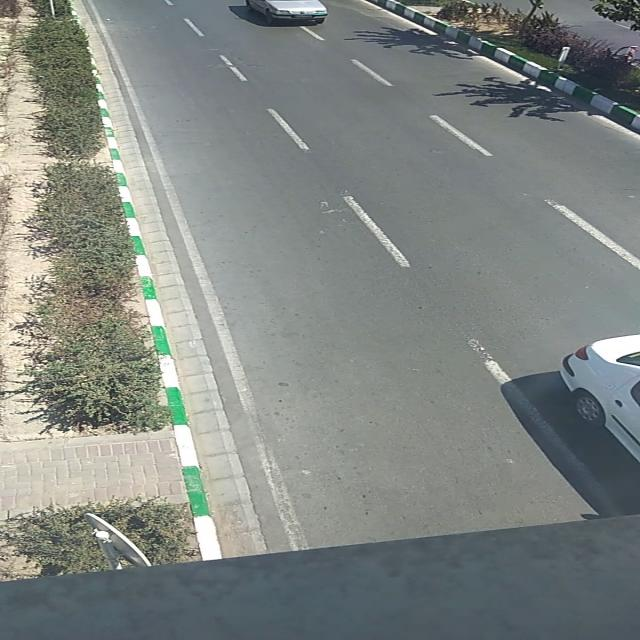car: (559, 332, 640, 464), (246, 1, 328, 22)
